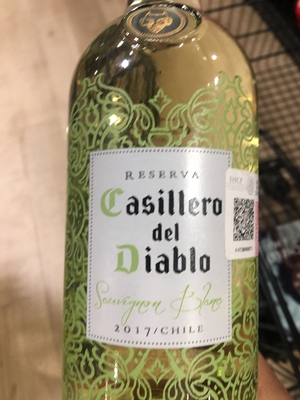casillero del diablo sauvignon blanc: (55, 18, 260, 393)
